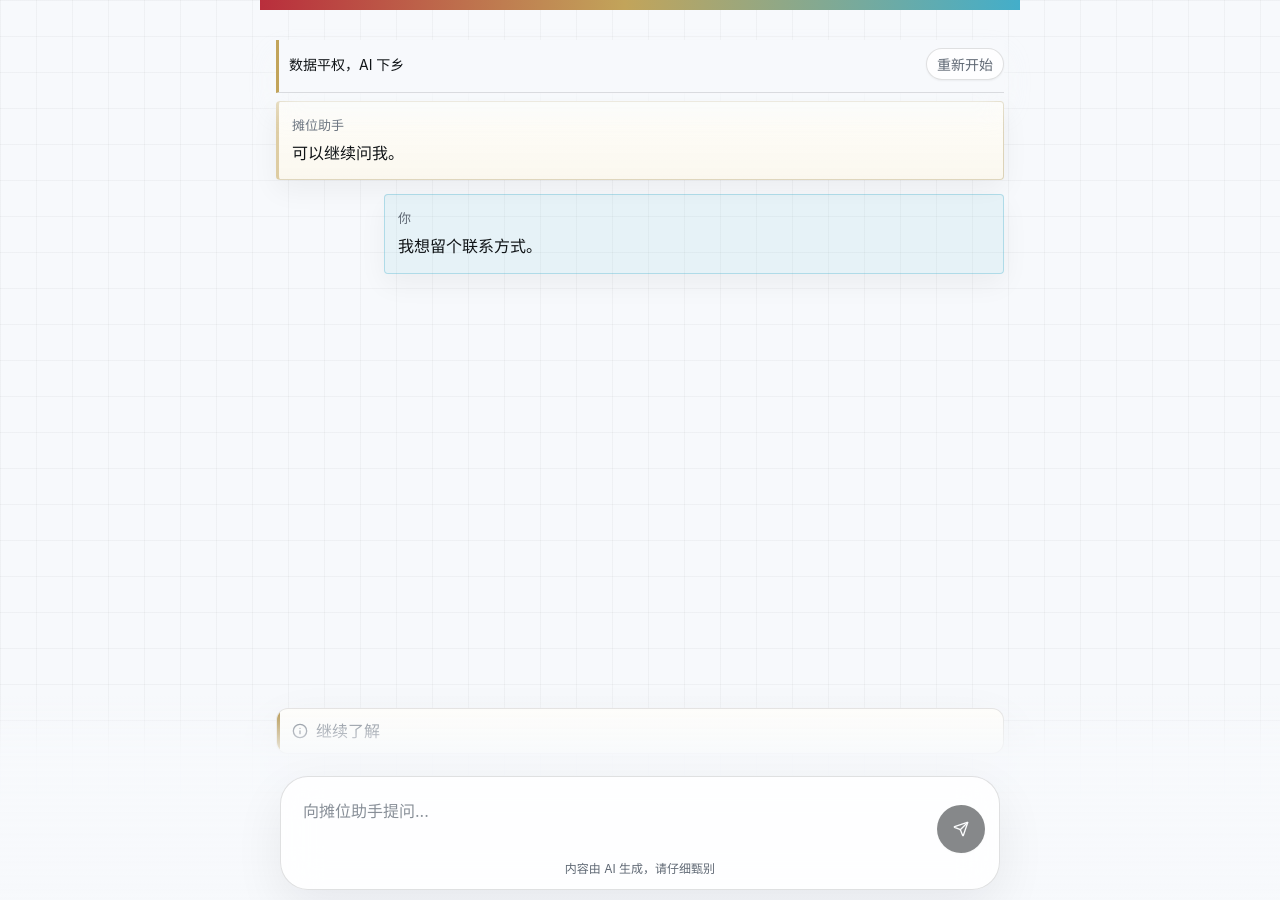
it: Home › clears the local conversation and returns to the entry screen
Expected: the text "我想留个联系方式。" is shown, [398,236,542,256]
Click the button "重新开始" at (965, 64), box [926,48,1004,80]
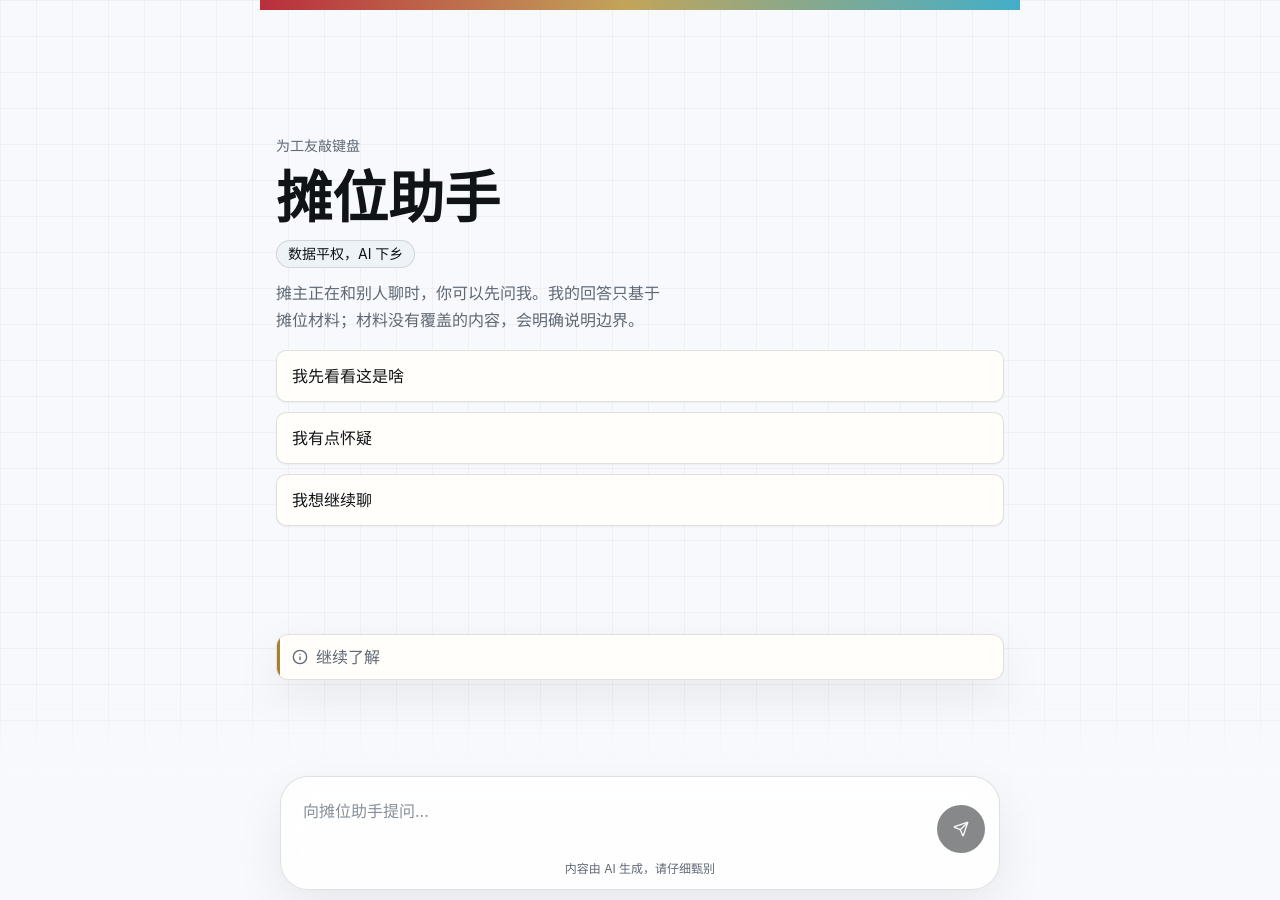
Now the button "我先看看这是啥" is shown, box [276,350,1004,402]
Now the text "我想留个联系方式。" is gone
